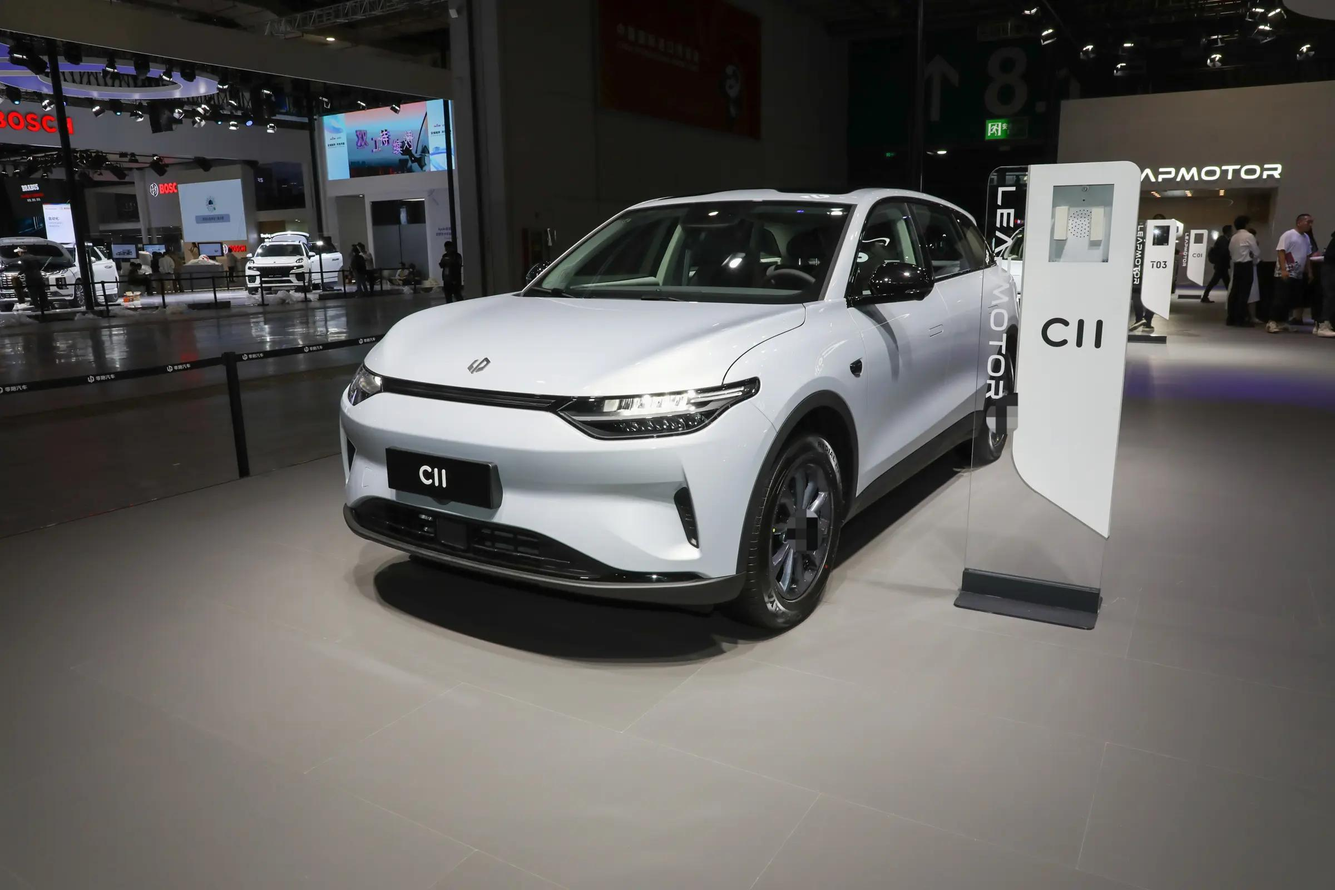LEAPMOTOR: (467, 358, 492, 374)
